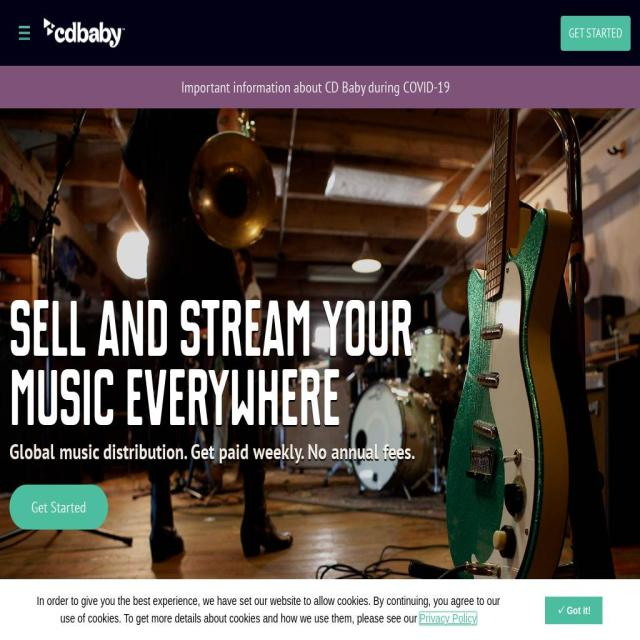button: (10, 484, 109, 530), (44, 18, 125, 50), (560, 16, 630, 51), (556, 603, 591, 617), (16, 20, 34, 45)
heading: (9, 295, 413, 530), (9, 354, 340, 444)
image: (44, 18, 125, 48)
link: (420, 612, 478, 625)
text: (36, 594, 500, 625), (9, 437, 415, 465), (181, 77, 368, 96), (368, 77, 450, 96)
